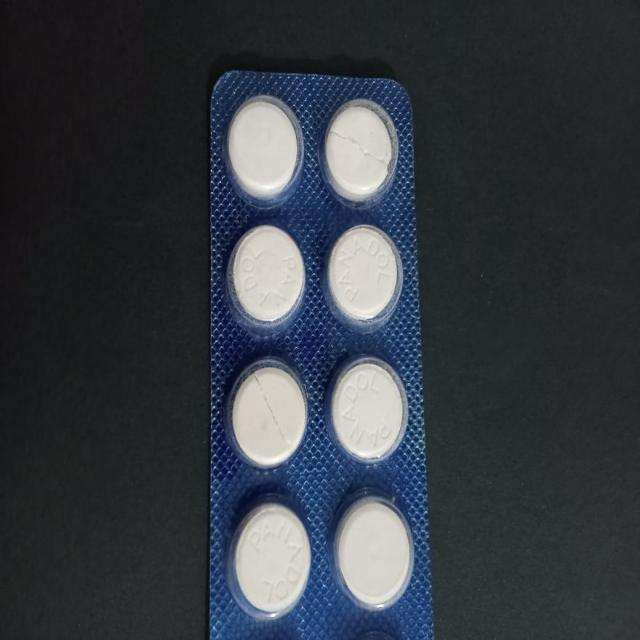defect: (222, 354, 313, 473), (320, 94, 402, 205)
